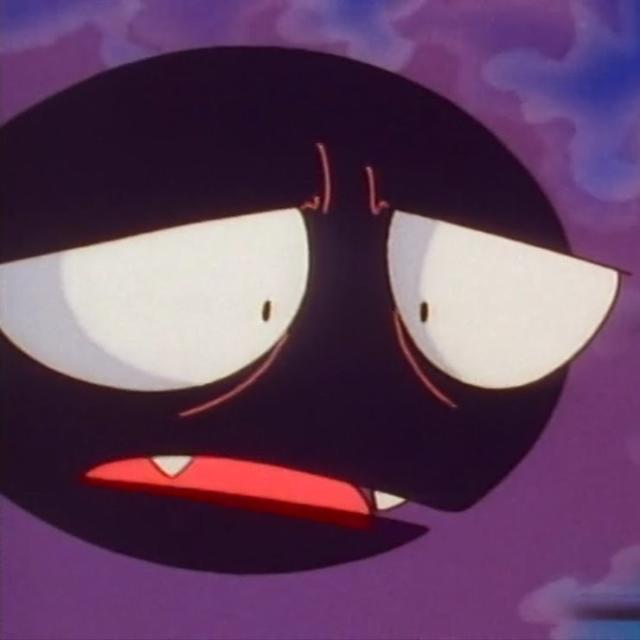Gastly: (0, 38, 604, 571)
